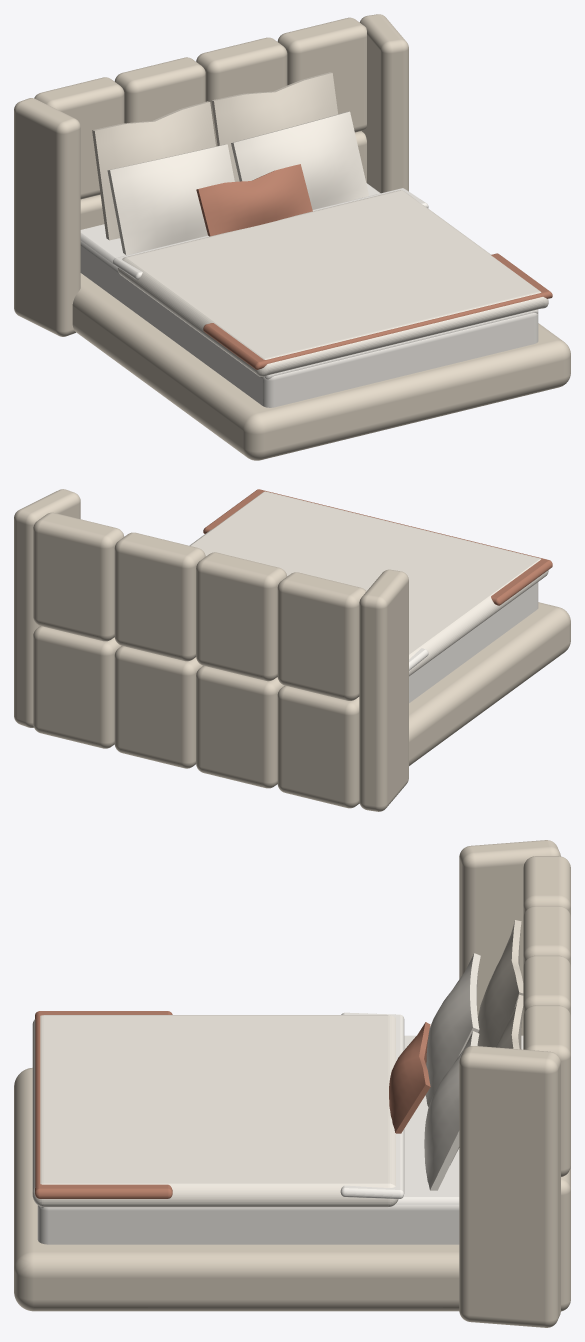
File: atelier-bed-wingback-ivory.glb
The picture shows the model from 3 angles, top to bottom: view 1: azimuth 30°, elevation 25°; view 2: azimuth 150°, elevation 25°; view 3: azimuth 270°, elevation 25°; orthographic projection. The views are drawn at different scales.
Bounding box in the file's own units: 2.03 × 1.12 × 2.11.
